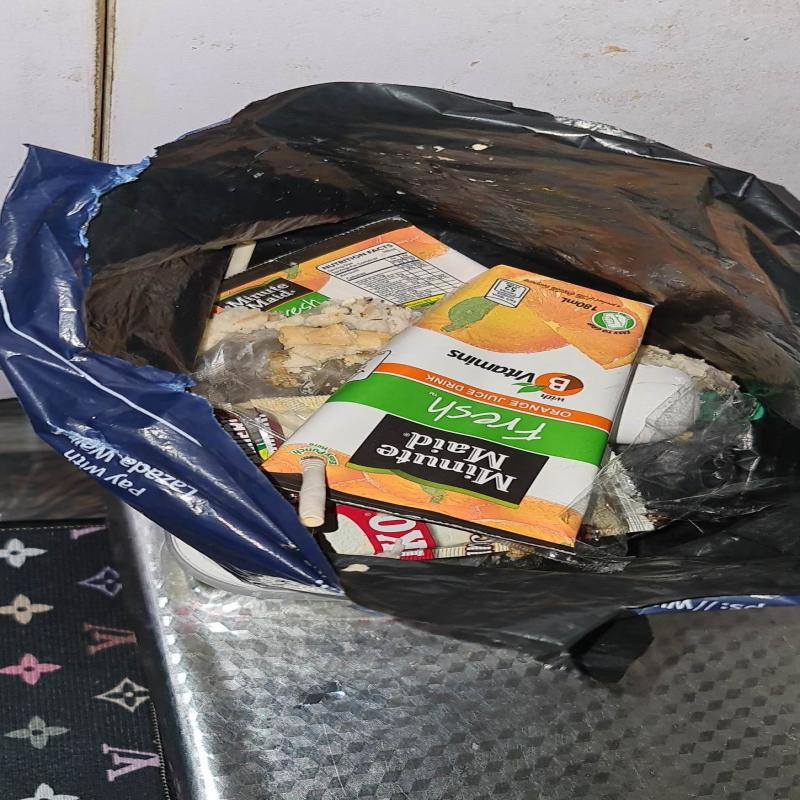egg shell: (612, 364, 702, 448)
food wrapper: (314, 498, 509, 560)
left-over food: (201, 299, 422, 375)
plastic bag: (0, 82, 800, 686)
plastic straw: (299, 457, 326, 527)
uht carton: (260, 265, 654, 553), (213, 217, 488, 317)
